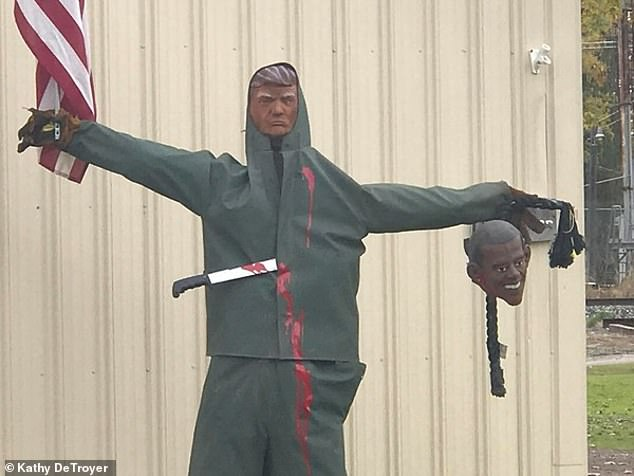person-like: (13, 59, 557, 476)
